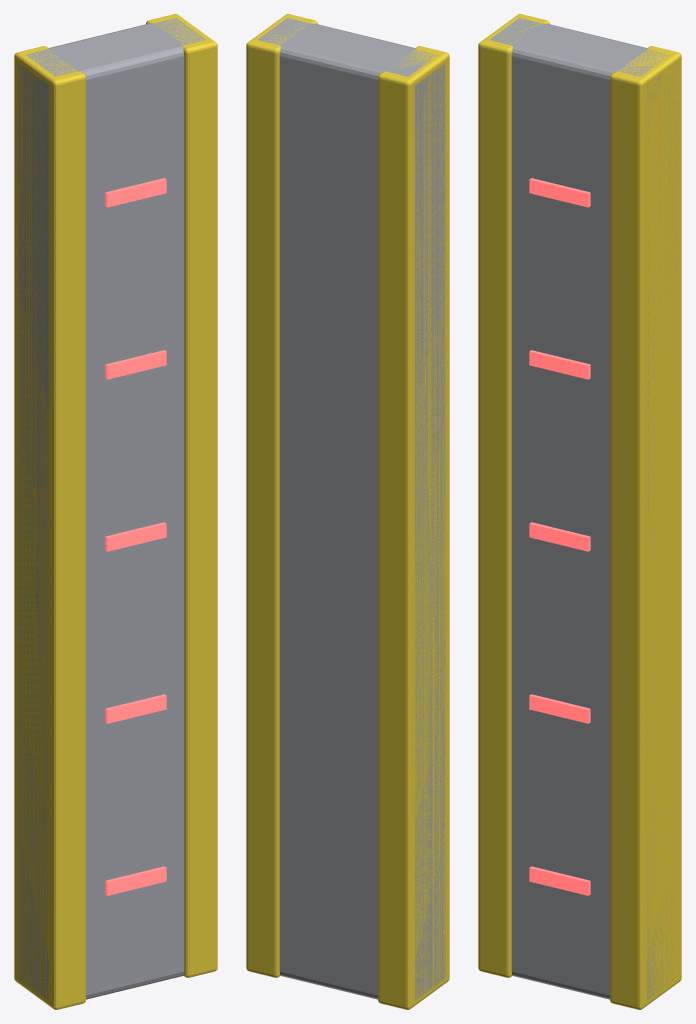
Rendered from pilaster_bulkhead_post.glb.
The picture shows the model from 3 angles, left to right: view 1: azimuth 30°, elevation 25°; view 2: azimuth 150°, elevation 25°; view 3: azimuth 330°, elevation 25°; orthographic projection.
Visible parts, largest first — view 1: GD_pilaster_bulkhead_post__m0, GD_pilaster_bulkhead_post__m1, GD_pilaster_bulkhead_post__m2; view 2: GD_pilaster_bulkhead_post__m0, GD_pilaster_bulkhead_post__m1; view 3: GD_pilaster_bulkhead_post__m1, GD_pilaster_bulkhead_post__m0, GD_pilaster_bulkhead_post__m2.
Part boxes in pixels (<box>): GD_pilaster_bulkhead_post__m0: <box>18,18,205,999</box>; GD_pilaster_bulkhead_post__m1: <box>14,14,217,1009</box>; GD_pilaster_bulkhead_post__m2: <box>105,178,166,895</box>; GD_pilaster_bulkhead_post__m0: <box>258,18,445,1000</box>; GD_pilaster_bulkhead_post__m1: <box>246,14,449,1009</box>; GD_pilaster_bulkhead_post__m1: <box>478,14,681,1009</box>; GD_pilaster_bulkhead_post__m0: <box>489,18,677,1000</box>; GD_pilaster_bulkhead_post__m2: <box>529,178,590,895</box>.
Bounding box in the file's own units: 0.5 × 2.7 × 0.221.
